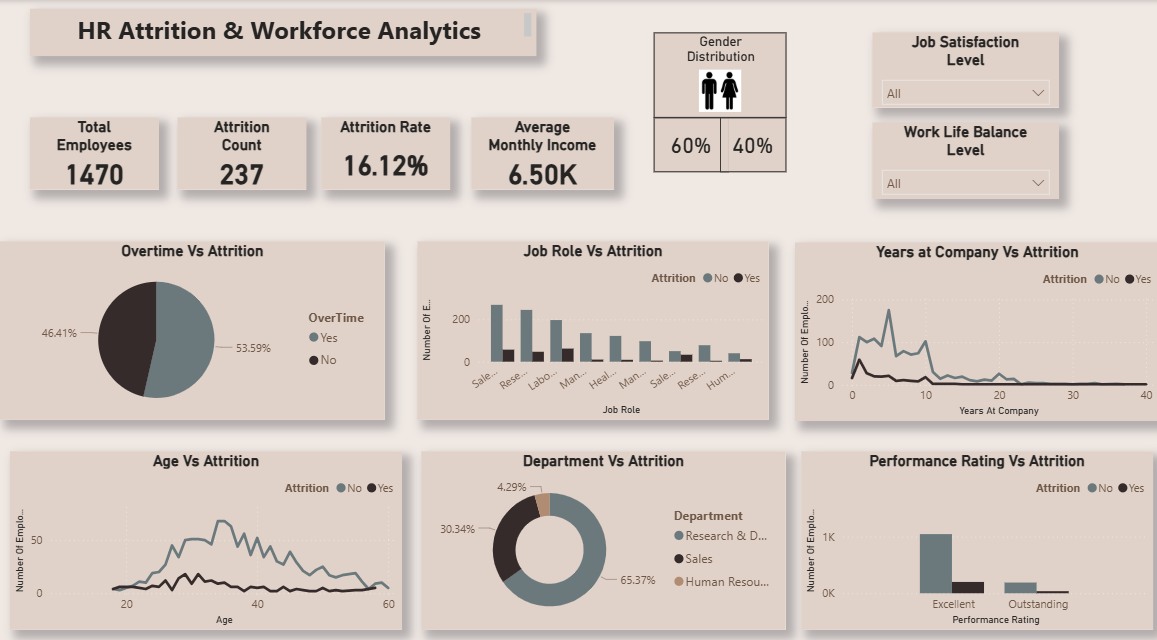

This screenshot's page, from the dashboard's own definition file:
{"tool":"powerbi","page":{"name":"Overview","canvas":[1280,720],"ordinal":0},"visuals":[{"type":"textbox","box":[32.9,9.6,555.7,52.1],"z":0},{"type":"image","title":"Gender Distribution","box":[717.7,35.7,145.5,93.3],"z":1000},{"type":"card","fields":{"Values":["HR.Male %"]},"box":[717.7,129,82.3,60.4],"z":2000},{"type":"card","fields":{"Values":["HR.Female %"]},"box":[790.4,129,72.7,60.4],"z":3000},{"type":"slicer","title":"Job Satisfaction Level","fields":{"Values":["HR.JobSatisfaction Level"]},"box":[957.8,35.7,204.5,82.3],"z":4000},{"type":"slicer","title":"Work Life Balance Level","fields":{"Values":["HR.WorkLifeBalance Level"]},"box":[957.8,134.5,204.5,83.7],"z":5000},{"type":"pieChart","title":"Overtime Vs Attrition","fields":{"Category":["HR.OverTime"],"Y":["CountNonNull(HR.EmployeeNumber)"]},"box":[0,264.8,422.6,196.2],"z":6000},{"type":"clusteredColumnChart","title":"Job Role Vs Attrition","fields":{"Category":["HR.JobRole"],"Y":["CountNonNull(HR.EmployeeNumber)"],"Series":["HR.Attrition"]},"box":[458.3,264.8,385.6,196.2],"z":7000},{"type":"lineChart","title":"Age Vs Attrition","fields":{"Category":["HR.Age"],"Y":["CountNonNull(HR.EmployeeNumber)"],"Series":["HR.Attrition"]},"box":[11,495.3,430.4,195.9],"z":8000},{"type":"lineChart","title":"Years at Company Vs Attrition","fields":{"Category":["HR.YearsAtCompany"],"Y":["CountNonNull(HR.EmployeeNumber)"],"Series":["HR.Attrition"]},"box":[872.7,266.2,400.7,196.2],"z":9000},{"type":"donutChart","title":"Department Vs Attrition","fields":{"Category":["HR.Department"],"Y":["CountNonNull(HR.EmployeeNumber)"]},"box":[462.2,495.3,400.1,195.9],"z":10000},{"type":"card","title":"Total Employees","fields":{"Values":["HR.Count Of Emplyees"]},"box":[32.9,129,141.3,79.6],"z":11000},{"type":"card","title":"Attrition Count","fields":{"Values":["HR.Attrition Count"]},"box":[194.9,129,141.3,79.6],"z":12000},{"type":"card","title":"Attrition Rate","fields":{"Values":["HR.Attrition Rate"]},"box":[352.7,129,141.3,79.6],"z":13000},{"type":"card","title":"Average Monthly Income","fields":{"Values":["HR.Average Monthly Salary"]},"box":[517.3,129,156.4,79.6],"z":14000},{"type":"clusteredColumnChart","title":"Performance Rating Vs Attrition","fields":{"Y":["CountNonNull(HR.EmployeeNumber)"],"Series":["HR.Attrition"],"Category":["HR.PerformanceRating Description"]},"box":[880.2,495.3,386.3,195.9],"z":15000}]}

Visuals, with their boxes in screenshot pixels (x1, y1, x2, y2), scaled from the page's 1280x720 canvas onto the 1157x640 screenshot:
textbox: l=30, t=9, r=532, b=55
"Gender Distribution" image: l=649, t=32, r=780, b=115
card - HR.Male %: l=649, t=115, r=723, b=168
card - HR.Female %: l=714, t=115, r=780, b=168
"Job Satisfaction Level" slicer: l=866, t=32, r=1051, b=105
"Work Life Balance Level" slicer: l=866, t=120, r=1051, b=194
"Overtime Vs Attrition" pieChart: l=0, t=235, r=382, b=410
"Job Role Vs Attrition" clusteredColumnChart: l=414, t=235, r=763, b=410
"Age Vs Attrition" lineChart: l=10, t=440, r=399, b=614
"Years at Company Vs Attrition" lineChart: l=789, t=237, r=1151, b=411
"Department Vs Attrition" donutChart: l=418, t=440, r=779, b=614
"Total Employees" card: l=30, t=115, r=157, b=185
"Attrition Count" card: l=176, t=115, r=304, b=185
"Attrition Rate" card: l=319, t=115, r=447, b=185
"Average Monthly Income" card: l=468, t=115, r=609, b=185
"Performance Rating Vs Attrition" clusteredColumnChart: l=796, t=440, r=1145, b=614
